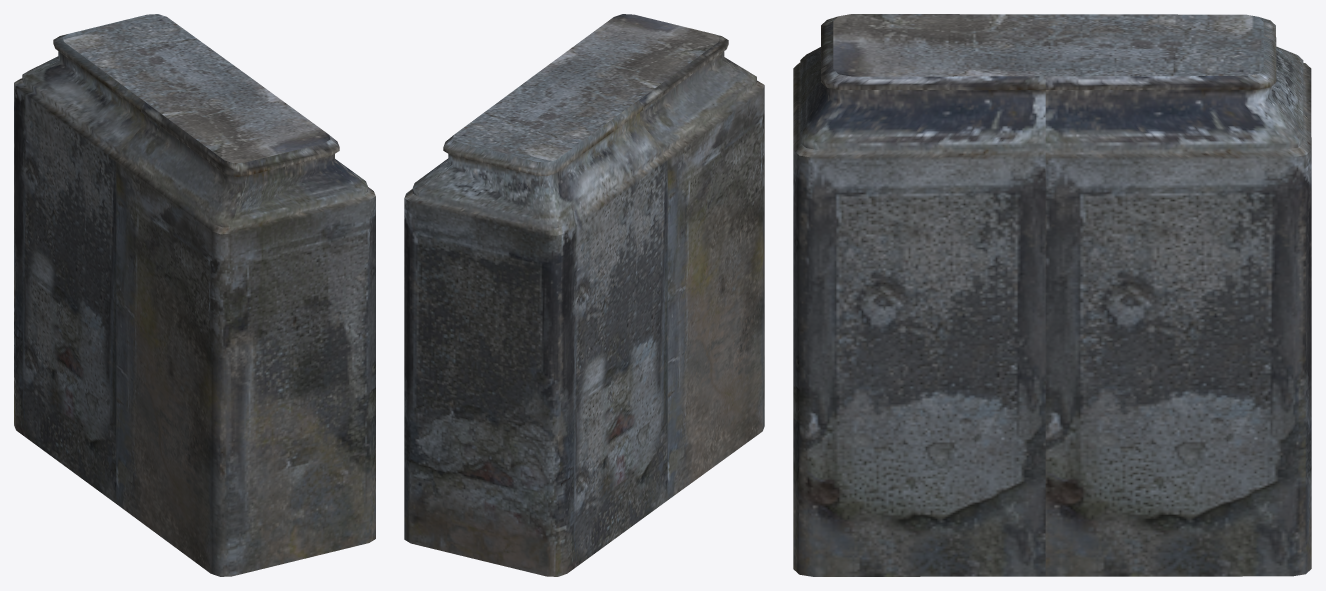
File: SM_ChapelColumnPedestal_03_02.fbx
The picture shows the model from 3 angles, left to right: view 1: azimuth 30°, elevation 25°; view 2: azimuth 150°, elevation 25°; view 3: azimuth 270°, elevation 25°; orthographic projection. The views are drawn at different scales.
Visible parts, largest first — view 1: sm_ChapelColumnPedestal_03_02_LOD0; view 2: sm_ChapelColumnPedestal_03_02_LOD0; view 3: sm_ChapelColumnPedestal_03_02_LOD0.
Part boxes in pixels (x1,y1,x2,y2): sm_ChapelColumnPedestal_03_02_LOD0: [14, 14, 375, 576]; sm_ChapelColumnPedestal_03_02_LOD0: [404, 14, 764, 576]; sm_ChapelColumnPedestal_03_02_LOD0: [793, 14, 1311, 576].
Bounding box in the file's own units: 103 × 45.81 × 106.
